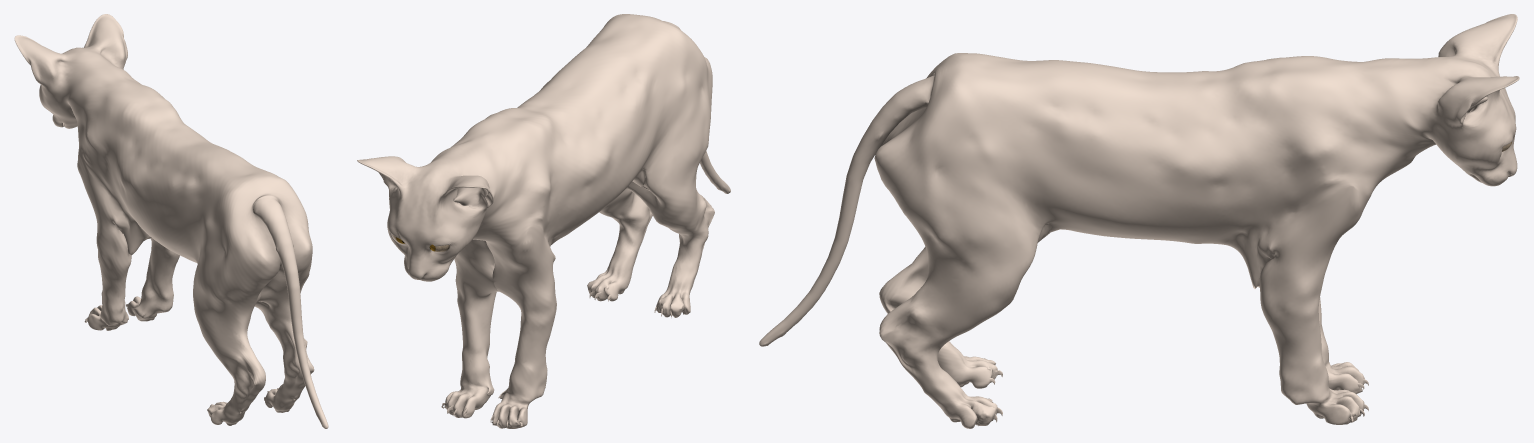
The model's file is integumentary.glb.
3 views of the same model, side by side, from view 1: azimuth 30°, elevation 25°; view 2: azimuth 150°, elevation 25°; view 3: azimuth 270°, elevation 25° (orthographic). The views are drawn at different scales.
Visible parts, largest first — view 1: cat_integumentary_skin; view 2: cat_integumentary_skin; view 3: cat_integumentary_skin.
Boxes of the visible parts, bbox=[...] form: cat_integumentary_skin: bbox=[14, 14, 328, 428]; cat_integumentary_skin: bbox=[357, 14, 730, 428]; cat_integumentary_skin: bbox=[759, 14, 1519, 428].
Bounding box in the file's own units: 0.1221 × 0.2872 × 0.5559.
